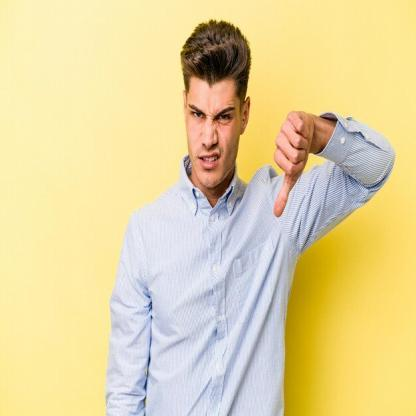thumb_down: (272, 106, 316, 222)
